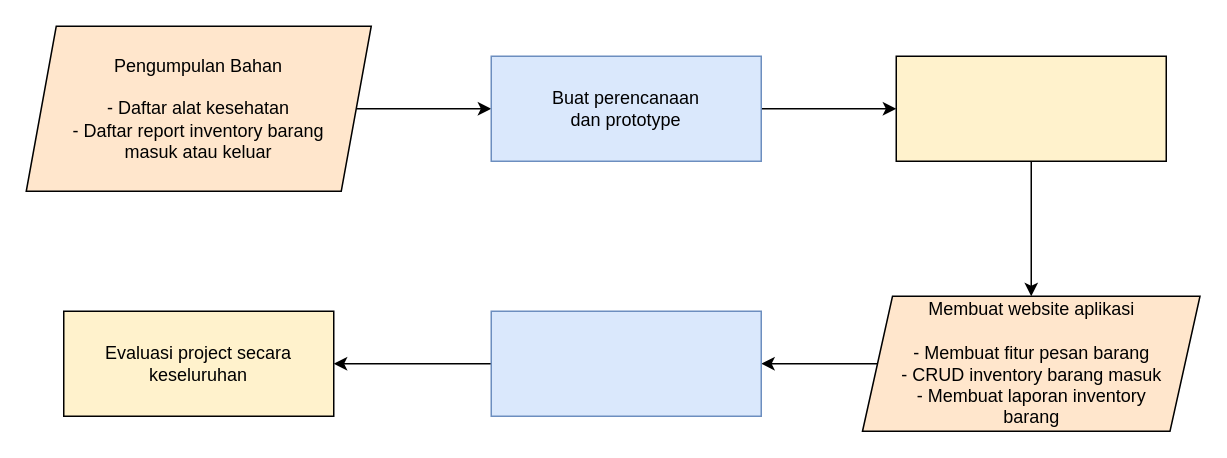
Some shapes in this 1227 by 458 pixel diagram are drawn without their labels. The shapes that lost their labels are listed below. From the top down, each one's centre as x and y in pixels, then its label:
point 1030,108: Evaluasi Project
point 625,363: Menguji Web Aplikasi
